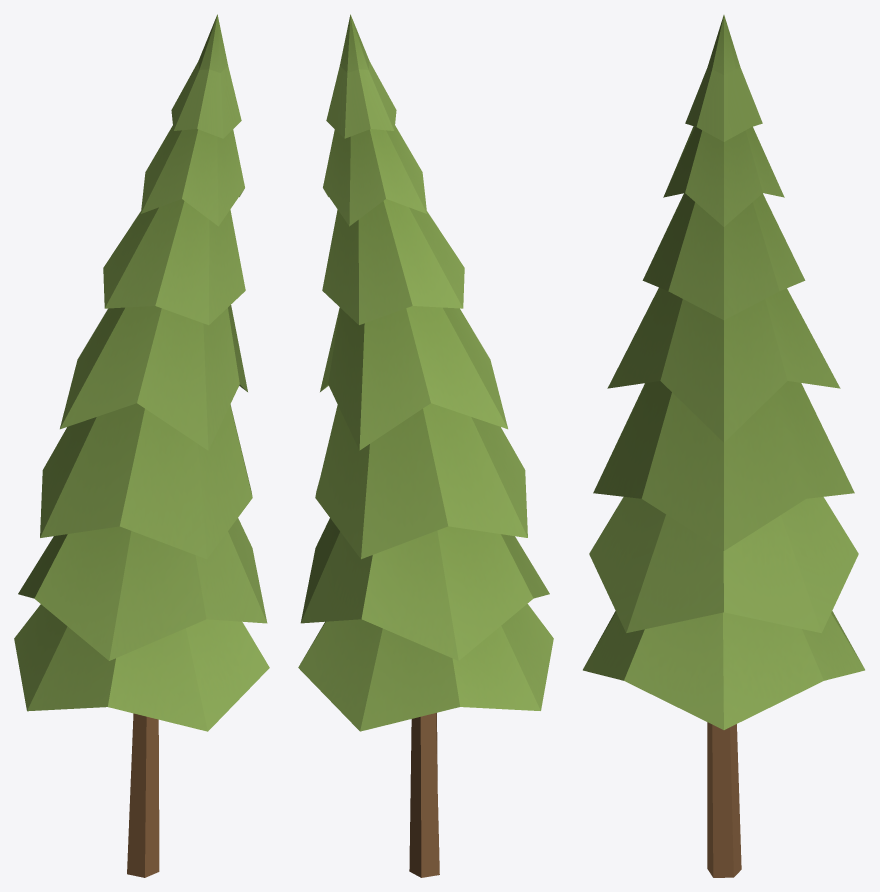
The model's file is Pine_Tree_OneSided_l_05_LOD.fbx.
3 views of the same model, side by side, from view 1: azimuth 30°, elevation 25°; view 2: azimuth 150°, elevation 25°; view 3: azimuth 270°, elevation 25° (orthographic). The views are drawn at different scales.
Parts seen in each view (by area): view 1: Pine_Tree_OneSided_l_05_LOD0; view 2: Pine_Tree_OneSided_l_05_LOD0; view 3: Pine_Tree_OneSided_l_05_LOD0.
Part boxes in pixels (x1,y1,x2,y2): Pine_Tree_OneSided_l_05_LOD0: [14, 14, 269, 877]; Pine_Tree_OneSided_l_05_LOD0: [298, 14, 553, 877]; Pine_Tree_OneSided_l_05_LOD0: [583, 15, 864, 877].
Size of what is drawn, in the model's own units: 558 by 1950 by 558.
